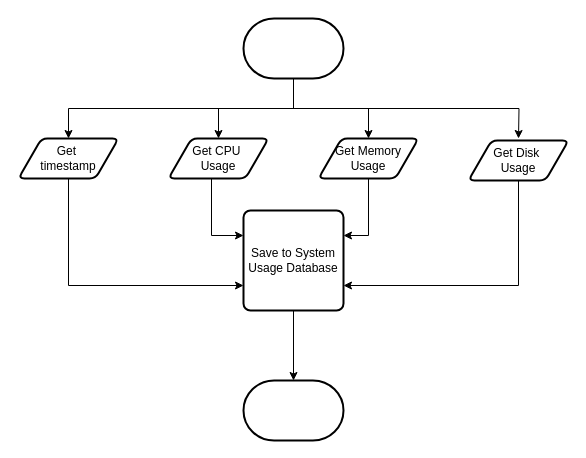
Image size: 586x458. Some labels were removed from this diagram. The shapes that lost their labels are listed below. From the top down, each one's box as (x1, y1, x2, y2) in pixels, then its label:
(242, 17, 344, 79): Start
(242, 379, 344, 441): End
